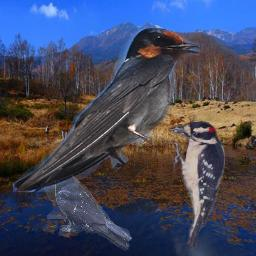Crow: (42, 166, 132, 251)
Swallow: (12, 27, 200, 192)
Woodpecker: (169, 118, 227, 250)
